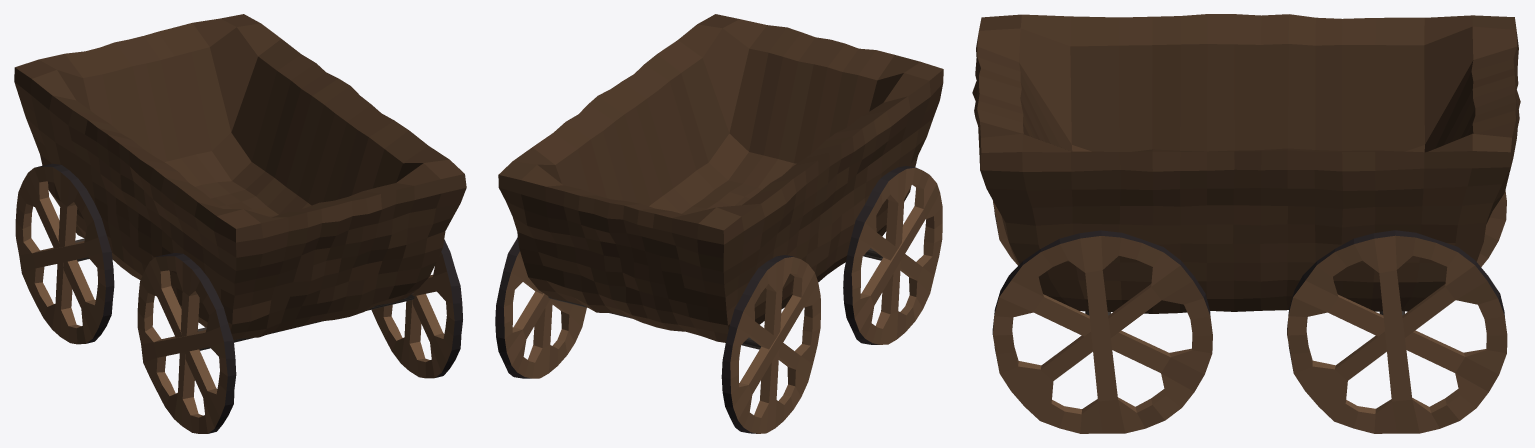
Rendered from KutscheLeer.fbx.
3 renders of one model, left to right at view 1: azimuth 30°, elevation 25°; view 2: azimuth 150°, elevation 25°; view 3: azimuth 270°, elevation 25°, orthographic. The views are drawn at different scales.
Visible parts, largest first — view 1: Cube, Circle.003, Circle, Circle.002; view 2: Cube, Circle.003, Circle, Circle.001; view 3: Cube, Circle.001, Circle.002, Circle.
Part boxes in pixels (x1,y1,x2,y2): Cube: (14,14,466,339); Circle.003: (137,253,236,433); Circle: (15,163,114,344); Circle.002: (371,239,462,378); Cube: (498,14,943,342); Circle.003: (843,166,942,344); Circle: (721,255,820,433); Circle.001: (495,237,586,378); Cube: (972,14,1520,313); Circle.001: (1287,230,1507,433); Circle.002: (992,230,1212,433); Circle: (1477,190,1506,266).
Bounding box in the file's own units: 486 × 462 × 800.
